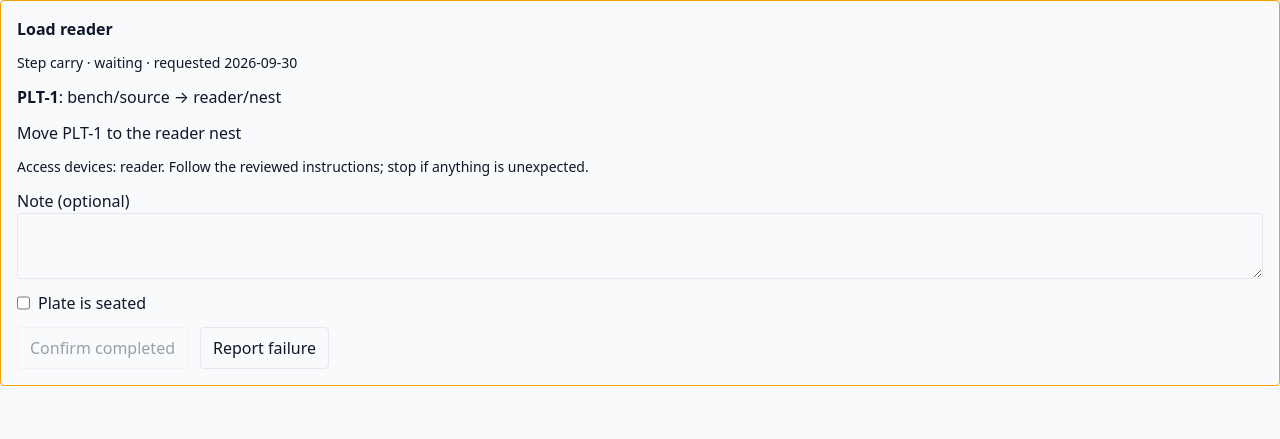
Test: human action card › requires explicit confirmation and sends the exact request once
Check: the button "Confirm completed" is disabled, box [17, 327, 188, 369]
Click the checkbox labelled "Plate is seated" at (24, 303), box [17, 291, 30, 315]
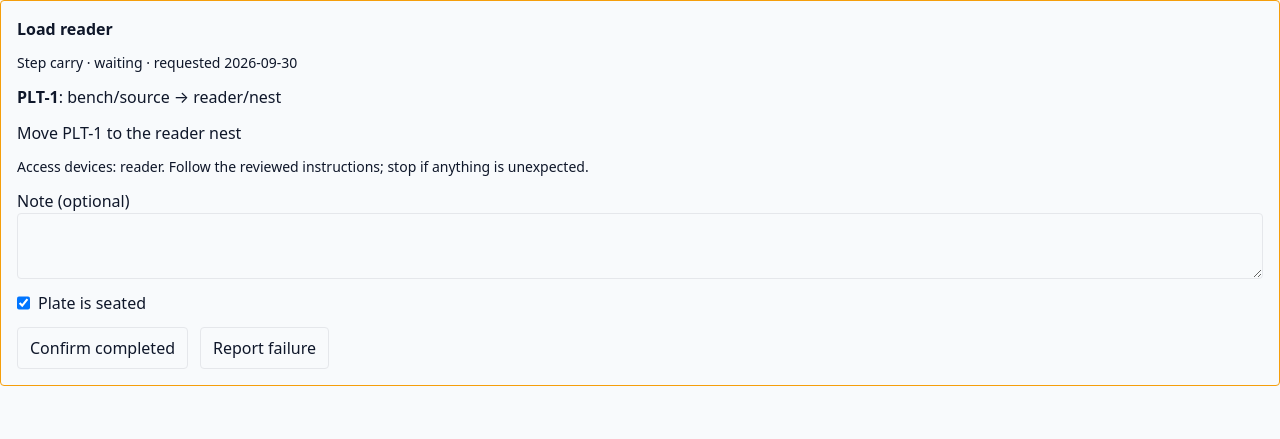
Click the button "Confirm completed" at (102, 348), box [17, 327, 188, 369]
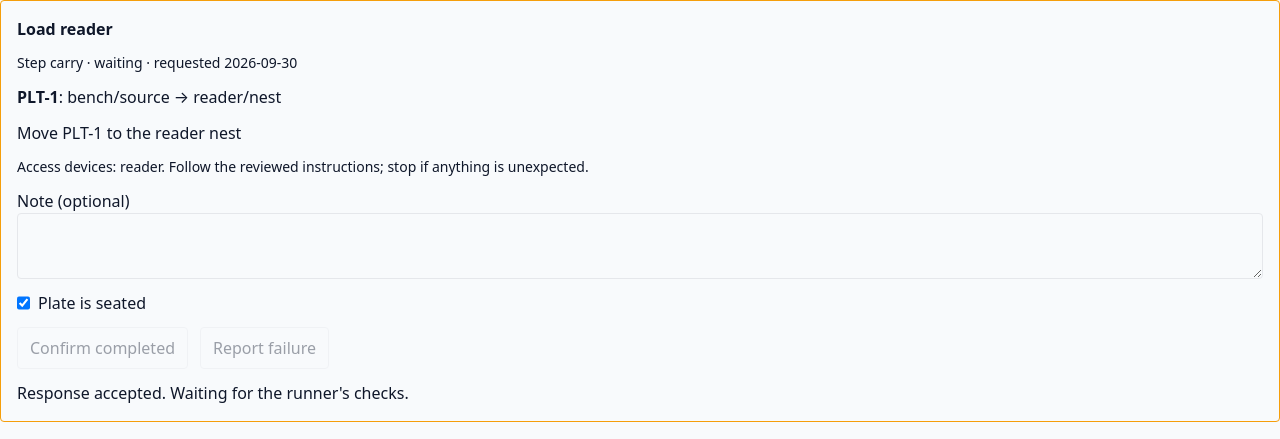
Check: the button "Confirm completed" is disabled, box [17, 327, 188, 369]
